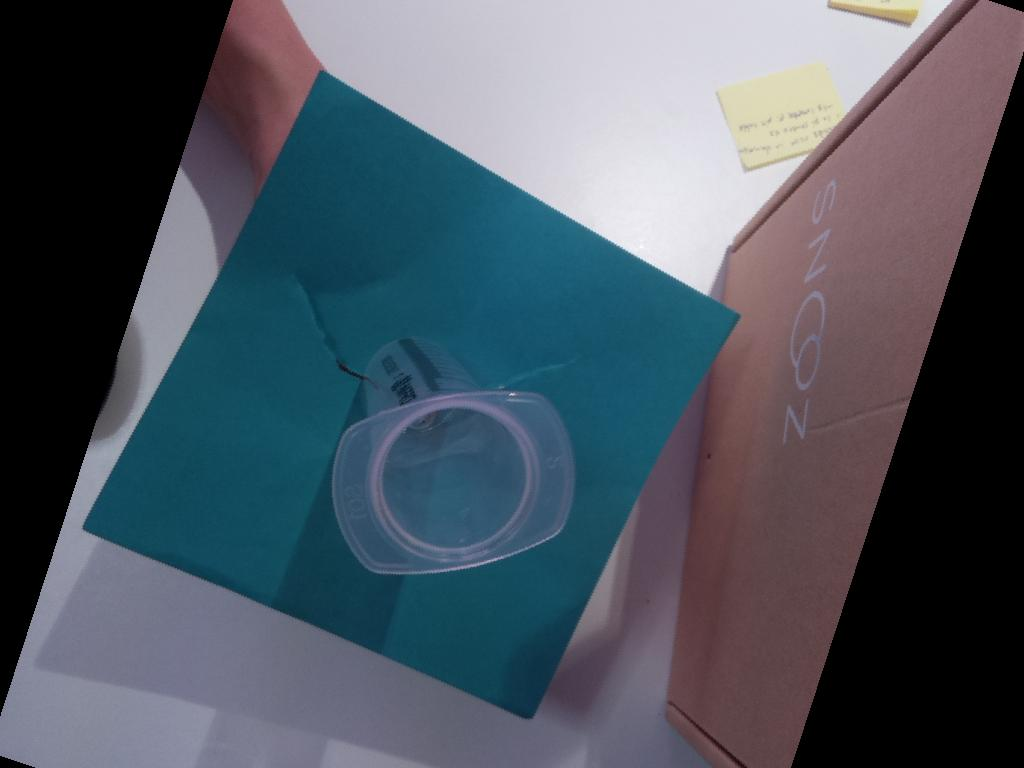clean: (331, 388, 578, 575)
